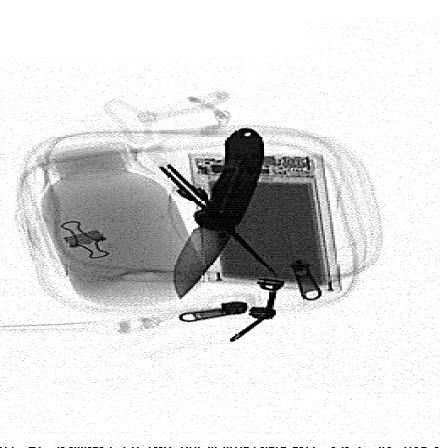Knife: (171, 125, 262, 303)
Powerbank: (191, 152, 344, 295)
Scissors: (127, 139, 287, 282)
